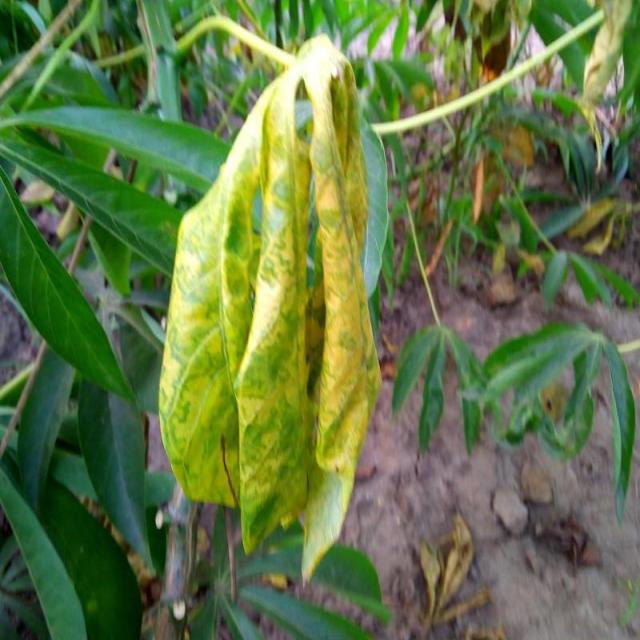cassava leaf: (157, 34, 386, 585)
